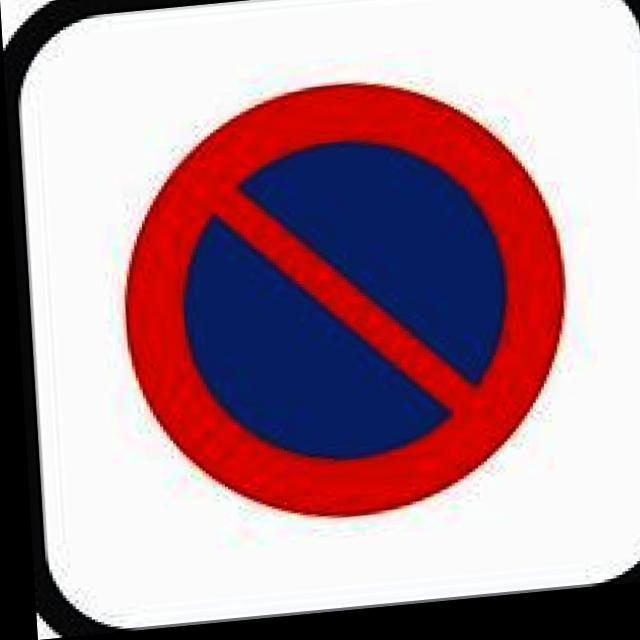NO_STOPPING_OR_STANDING: (108, 70, 570, 539)
